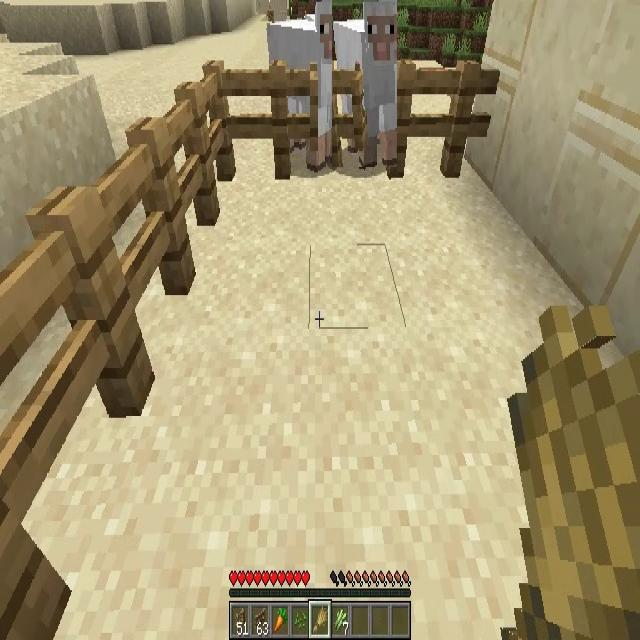sheep: (264, 0, 330, 169), (332, 0, 397, 167)
